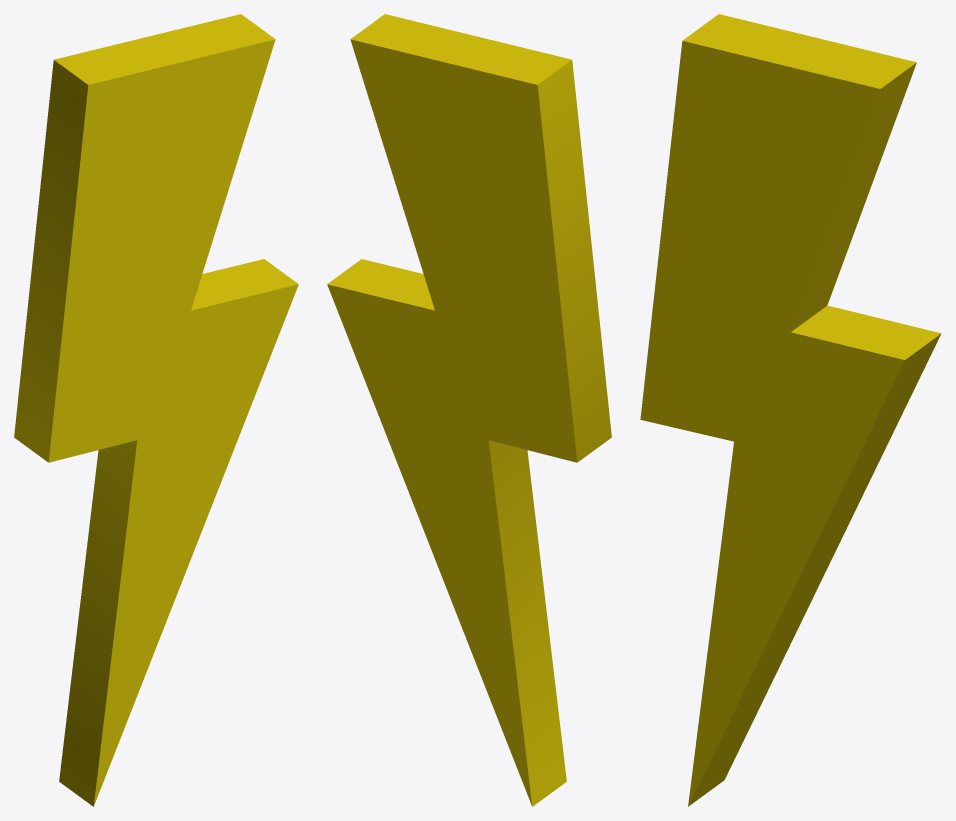
Rendered from Lightning.fbx.
3 views of the same model, side by side, from view 1: azimuth 30°, elevation 25°; view 2: azimuth 150°, elevation 25°; view 3: azimuth 330°, elevation 25° (orthographic). The views are drawn at different scales.
Visible parts, largest first — view 1: pCube1; view 2: pCube1; view 3: pCube1.
Part boxes in pixels (x1,y1,x2,y2): pCube1: (14,14,298,806); pCube1: (327,14,611,806); pCube1: (640,14,941,806).
Bounding box in the file's own units: 1.73 × 4.79 × 0.4153.
